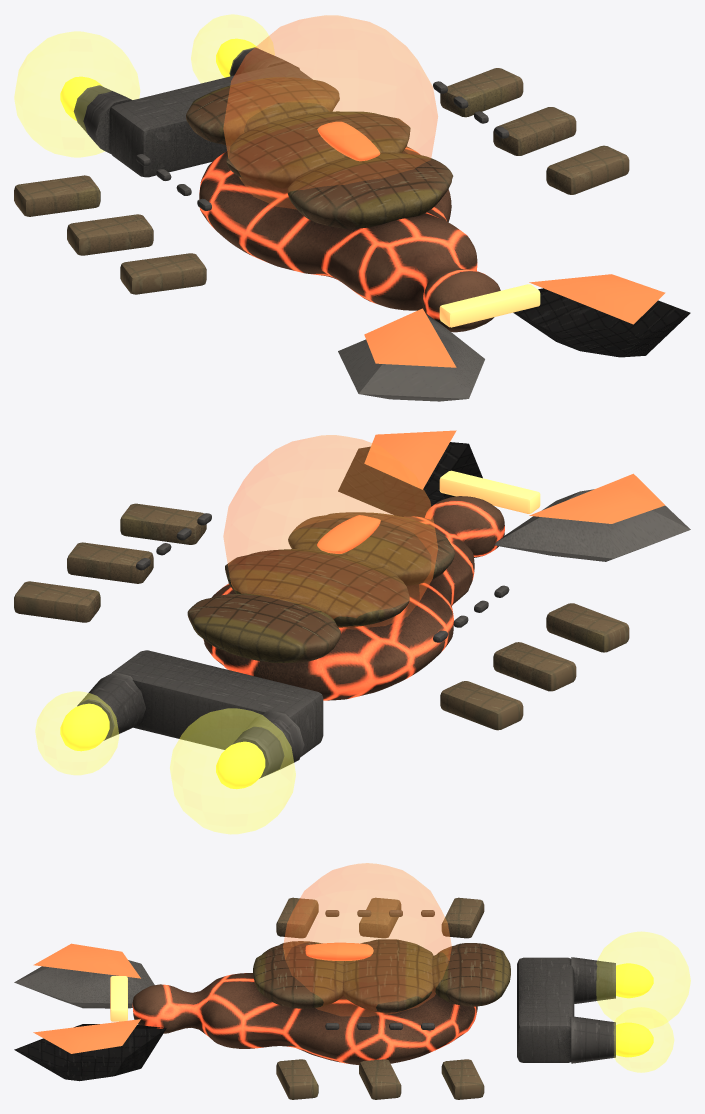
The model's file is enemy_beetle.glb.
3 renders of one model, top to bottom at view 1: azimuth 30°, elevation 25°; view 2: azimuth 150°, elevation 25°; view 3: azimuth 270°, elevation 25°, orthographic. The views are drawn at different scales.
Parts seen in each view (by area): view 1: hull, Sphere, Sphere.002, plow0, plow1, Sphere.004, Cube, scar, Sphere.001, Sphere.003; view 2: hull, Sphere, Sphere.002, plow1, plow0, Sphere.004, Cube, Sphere.001, Sphere.003, scar; view 3: hull, Sphere, Sphere.002, plow0, plow1, Sphere.004, Sphere.003, Sphere.001, scar, Cube.
Part boxes in pixels (x1,y1,x2,y2): hull: (14,47,629,332); Sphere: (223,15,437,208); Sphere.002: (14,31,139,157); plow0: (513,274,690,357); plow1: (338,308,484,401); Sphere.004: (191,14,274,83); Cube: (439,284,540,327); scar: (317,121,380,161); Sphere.001: (60,76,102,120); Sphere.003: (216,38,257,77); hull: (14,496,629,778); Sphere: (223,435,437,628); Sphere.002: (170,708,295,834); plow1: (494,473,690,561); plow0: (338,430,482,517); Sphere.004: (35,691,118,774); Cube: (439,470,540,513); Sphere.001: (216,741,265,789); Sphere.003: (60,703,109,751); scar: (317,515,380,553); hull: (132,897,615,1099); Sphere: (283,863,451,1016); Sphere.002: (596,931,690,1028); plow0: (14,1019,166,1081); plow1: (14,943,154,1008); Sphere.004: (614,1007,673,1072); Sphere.003: (616,1022,653,1057); Sphere.001: (616,963,653,998); scar: (305,942,373,960); Cube: (110,976,127,1021).
Bounding box in the file's own units: 1.41 × 0.6414 × 2.13.
8 materials, 2 textured.
